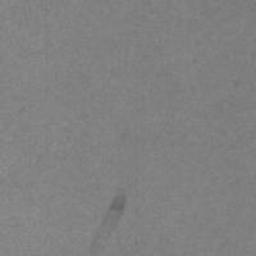Inclusion: (90, 194, 126, 256)
